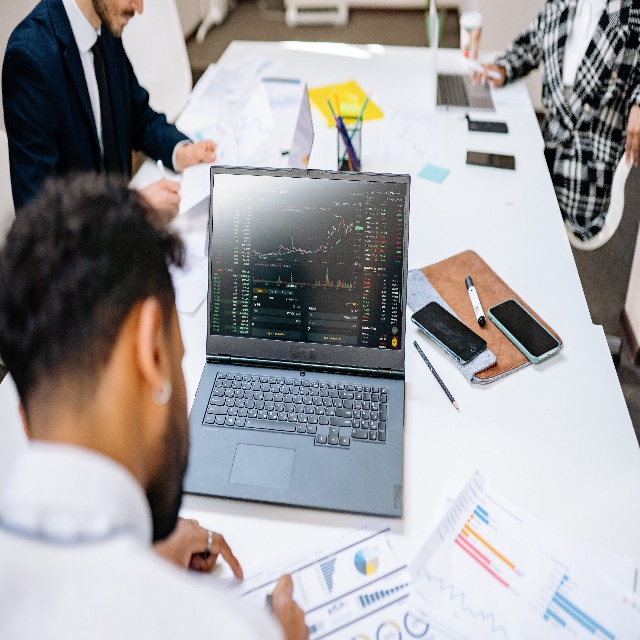Sin_guantes: (155, 516, 244, 583), (268, 572, 313, 640), (140, 177, 182, 224), (174, 134, 218, 172), (625, 102, 640, 168), (471, 61, 506, 89)
